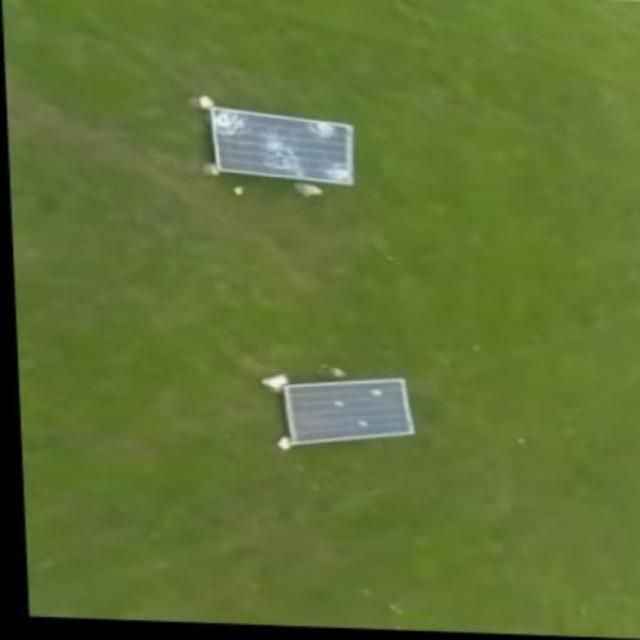cracked: (212, 109, 354, 188)
soiled: (284, 376, 418, 444)
